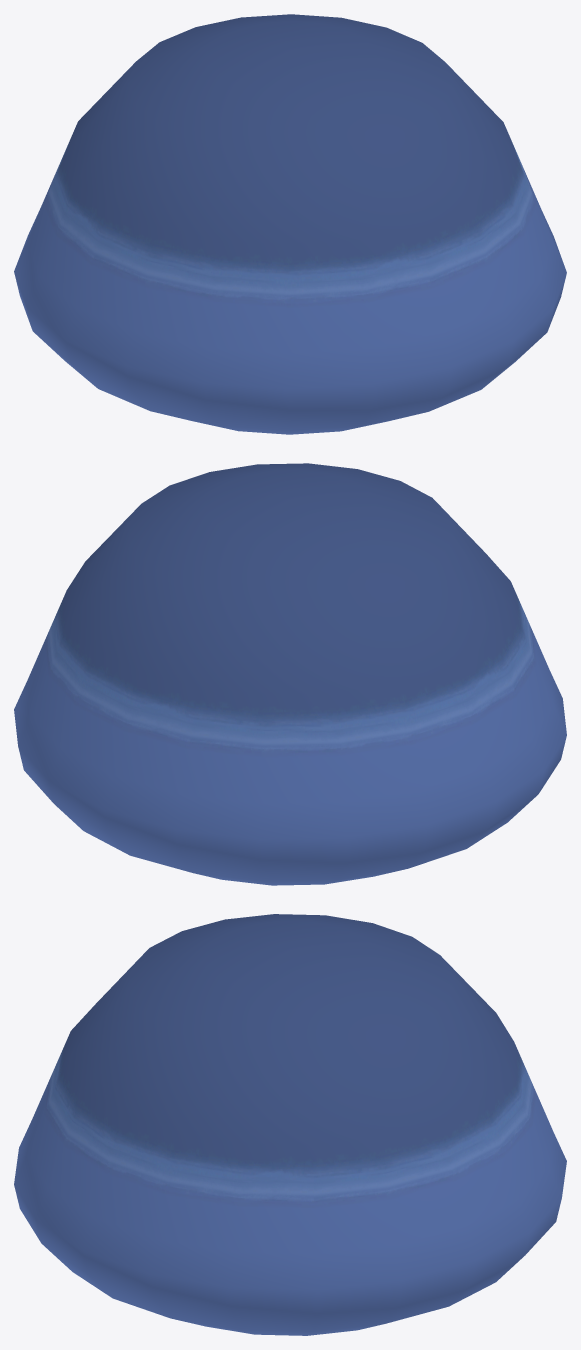
File: bel_raid_skyscene.glb
3 renders of one model, top to bottom at view 1: azimuth 30°, elevation 25°; view 2: azimuth 150°, elevation 25°; view 3: azimuth 270°, elevation 25°, orthographic.
Visible parts, largest first — view 1: bel_raid_skyscene; view 2: bel_raid_skyscene; view 3: bel_raid_skyscene.
Part boxes in pixels (left/top/right/bottom): bel_raid_skyscene: left=14, top=14, right=566, bottom=434; bel_raid_skyscene: left=14, top=463, right=566, bottom=885; bel_raid_skyscene: left=14, top=914, right=566, bottom=1335.
Bounding box in the file's own units: 87.44 × 58.69 × 87.44.
Materials: 1 (1 with a texture image).
